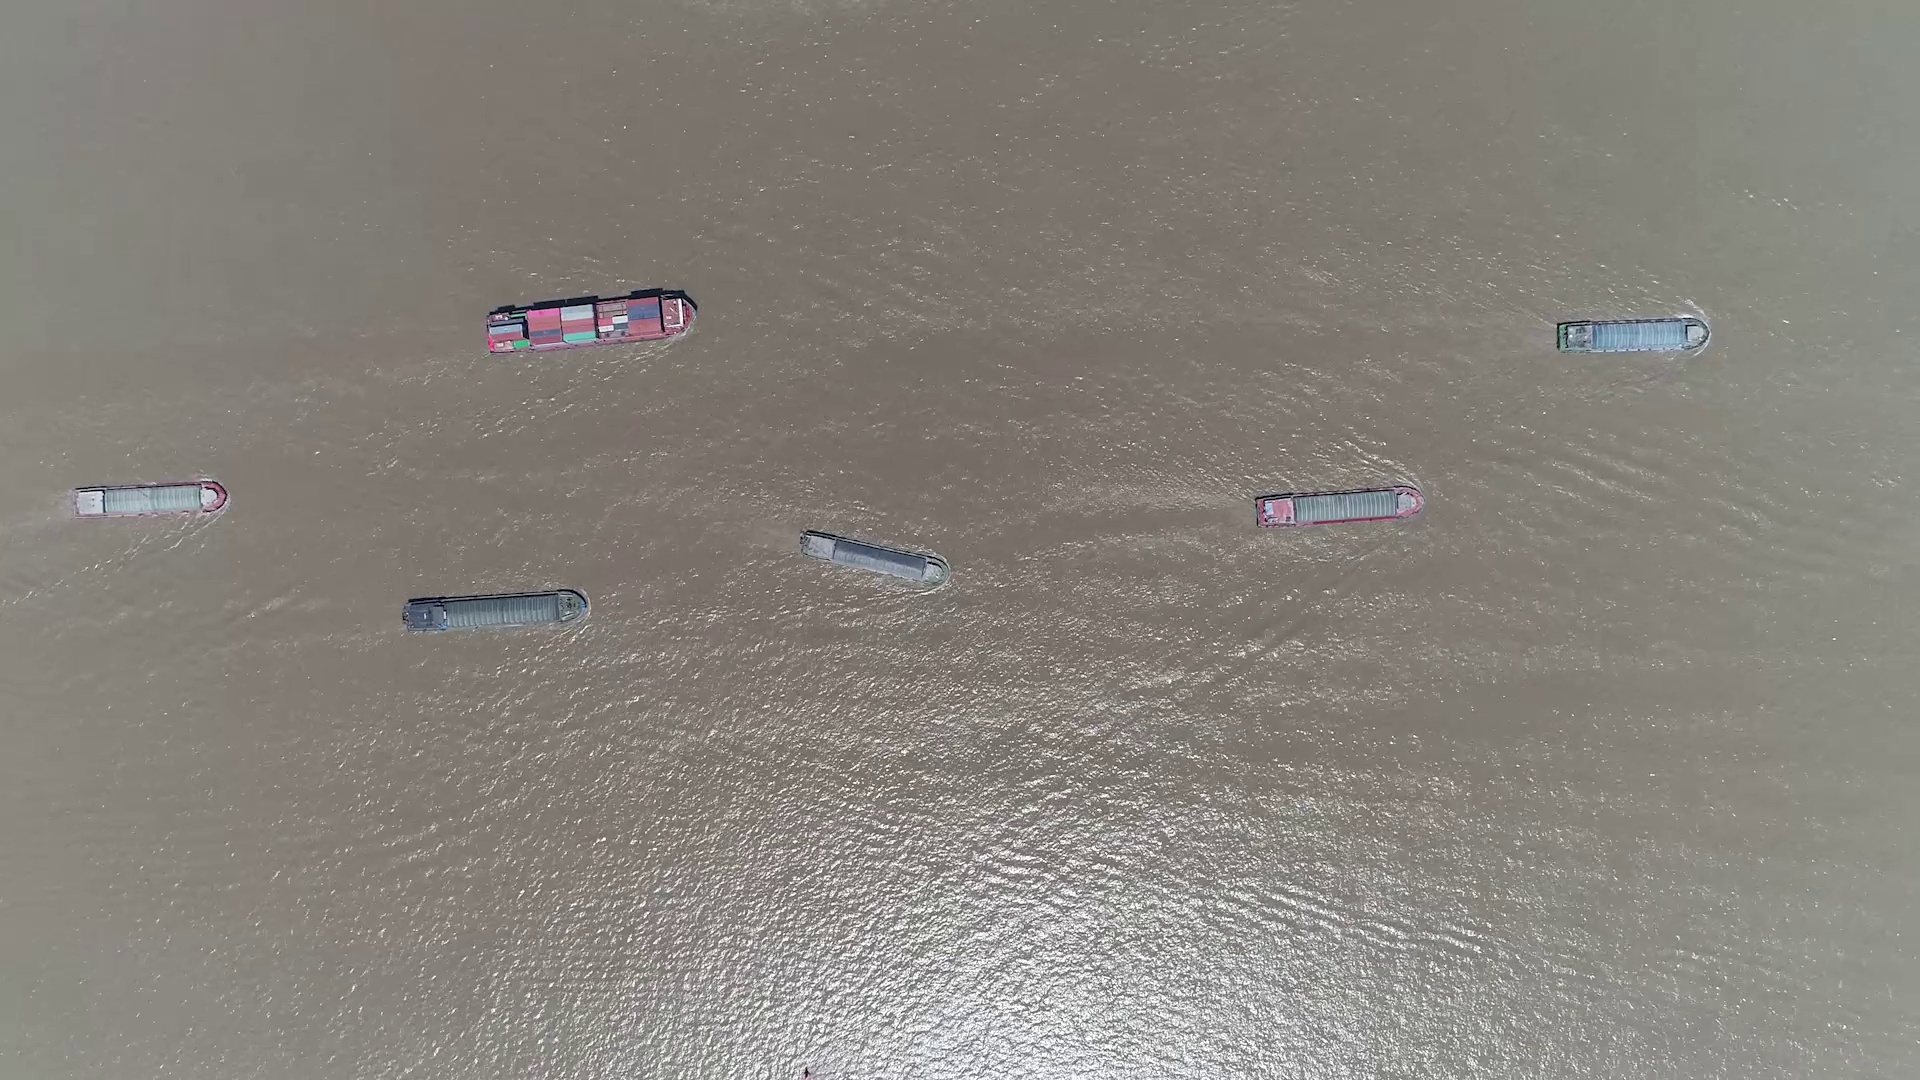ship: (485, 293, 698, 353), (796, 530, 951, 587), (402, 589, 588, 633), (1258, 485, 1425, 527), (73, 483, 225, 520), (1557, 319, 1706, 353)
